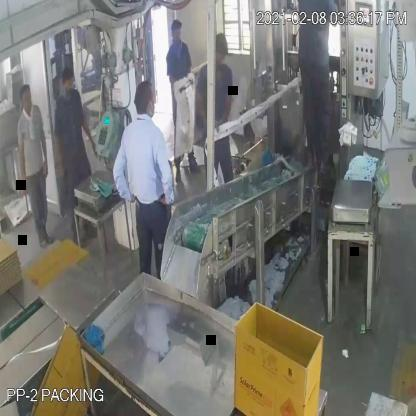no_glove: (152, 139, 180, 219), (110, 140, 134, 217), (75, 98, 99, 160), (14, 128, 34, 200), (52, 119, 66, 188), (194, 85, 210, 135)
